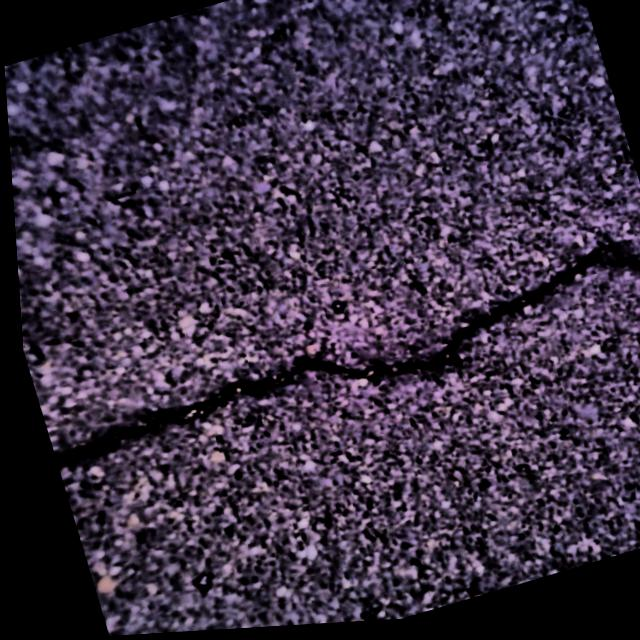cracks: (35, 209, 640, 486)
